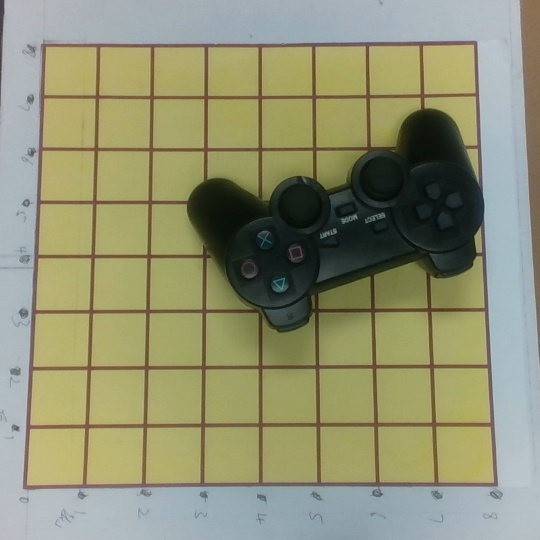remote: (184, 108, 485, 333)
